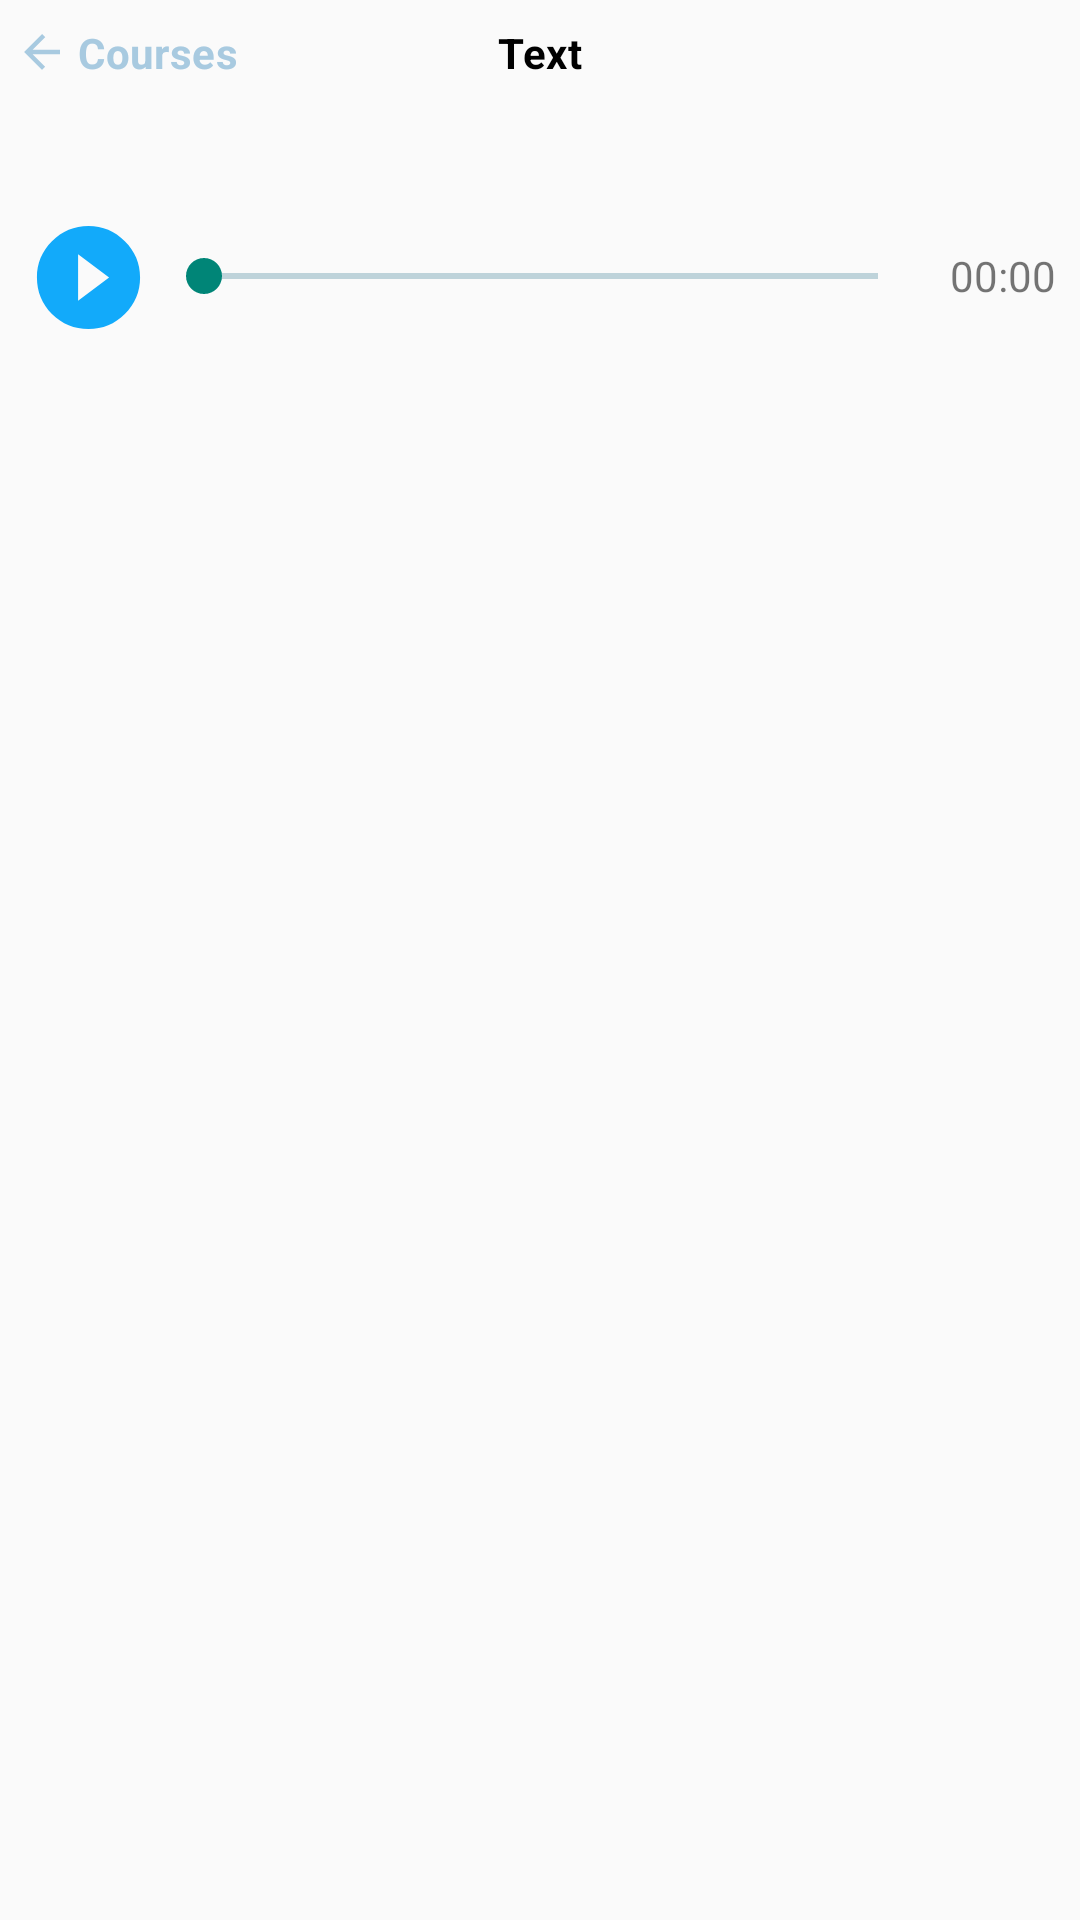

Point at icon controls on the screen. Image size 1080px x 1920px, points as [x,y].
play audio: [88,277]
